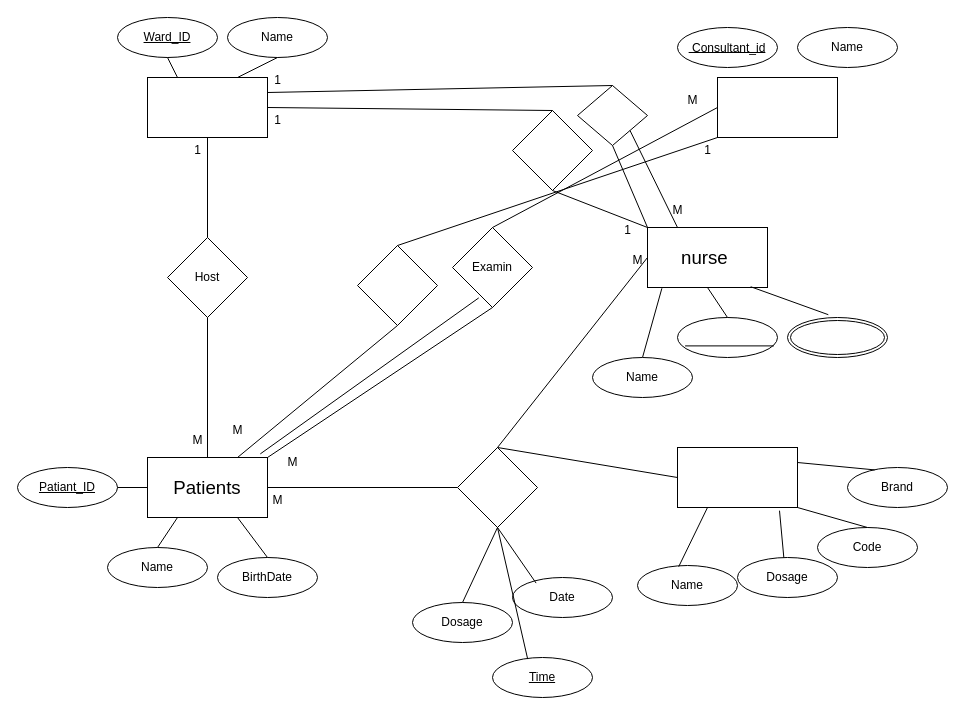
The diagram is 965 pixels wide and 715 high, and some of its shapes have lost their labels. Each missing label, with the box of its shape:
Address: (786, 316, 888, 358)
Assign: (356, 244, 438, 326)
Consultants: (716, 76, 838, 138)
Drug: (676, 446, 798, 508)
Gives: (456, 446, 538, 528)
Number: (676, 316, 778, 358)
Serve: (576, 84, 648, 146)
SUPERVISE: (512, 110, 592, 190)
Ward: (146, 76, 268, 138)
